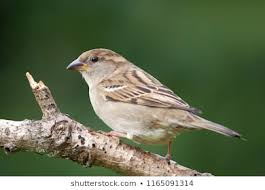hsparrow: (65, 46, 251, 163)
